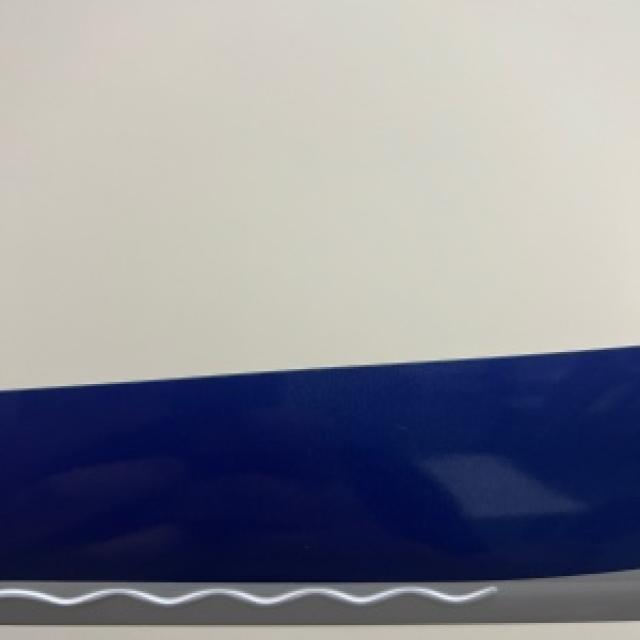healthy: (0, 346, 638, 627)
